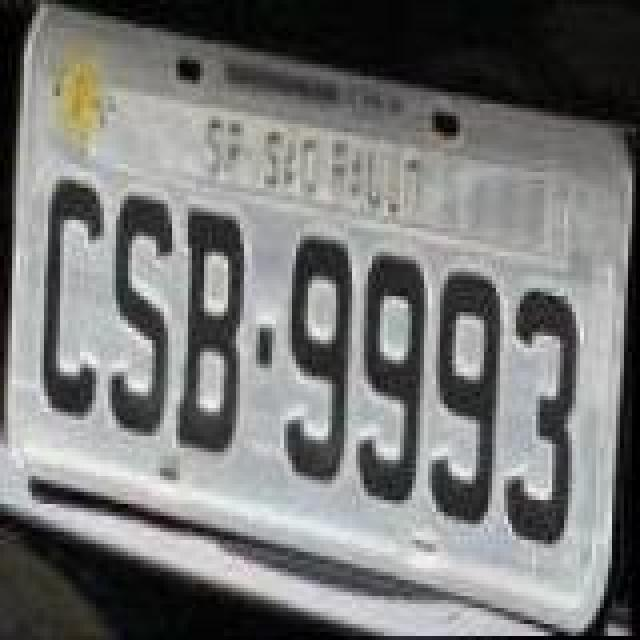3: (504, 290, 584, 550)
9: (428, 268, 508, 528), (284, 230, 356, 486), (360, 254, 432, 510)
B: (176, 206, 248, 454)
C: (38, 174, 106, 418)
S: (104, 194, 176, 446)
